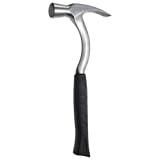hammer: (48, 1, 112, 158)
